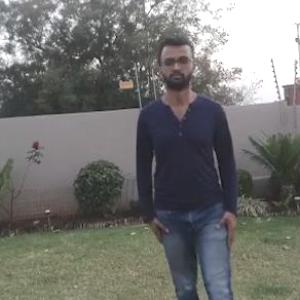follow: (148, 46, 233, 299)
